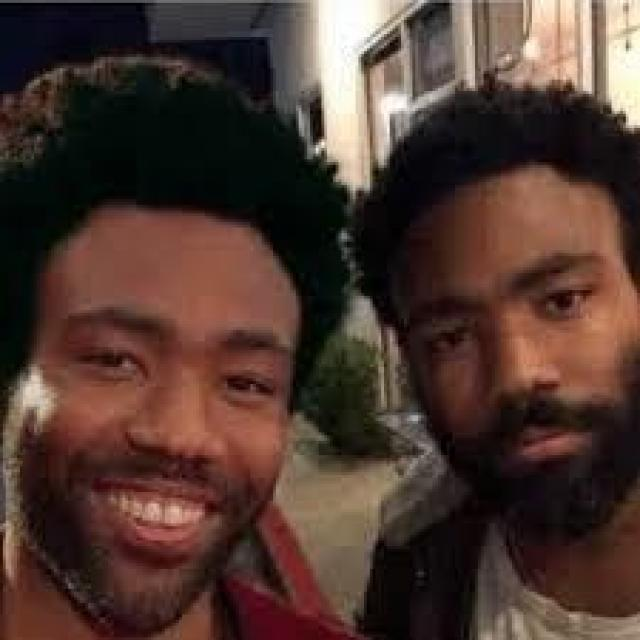person: (0, 45, 347, 626), (285, 49, 637, 612)
